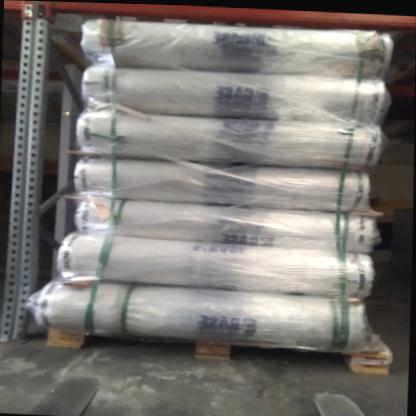vertical_damage: (1, 279, 42, 346)
